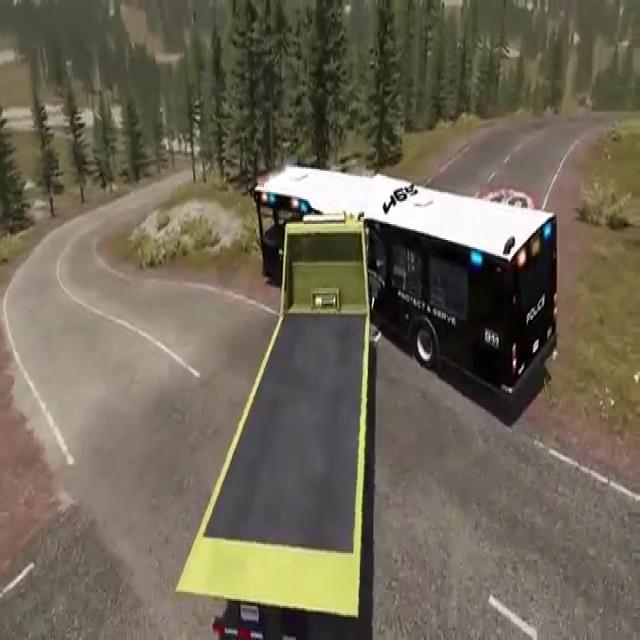accident: (161, 142, 569, 640)
